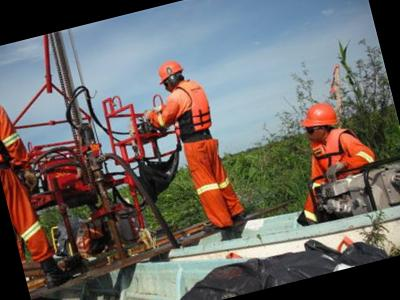helmet: (299, 99, 341, 132), (153, 54, 187, 84)
wear: (306, 123, 374, 176), (166, 75, 219, 143), (0, 99, 28, 182)
